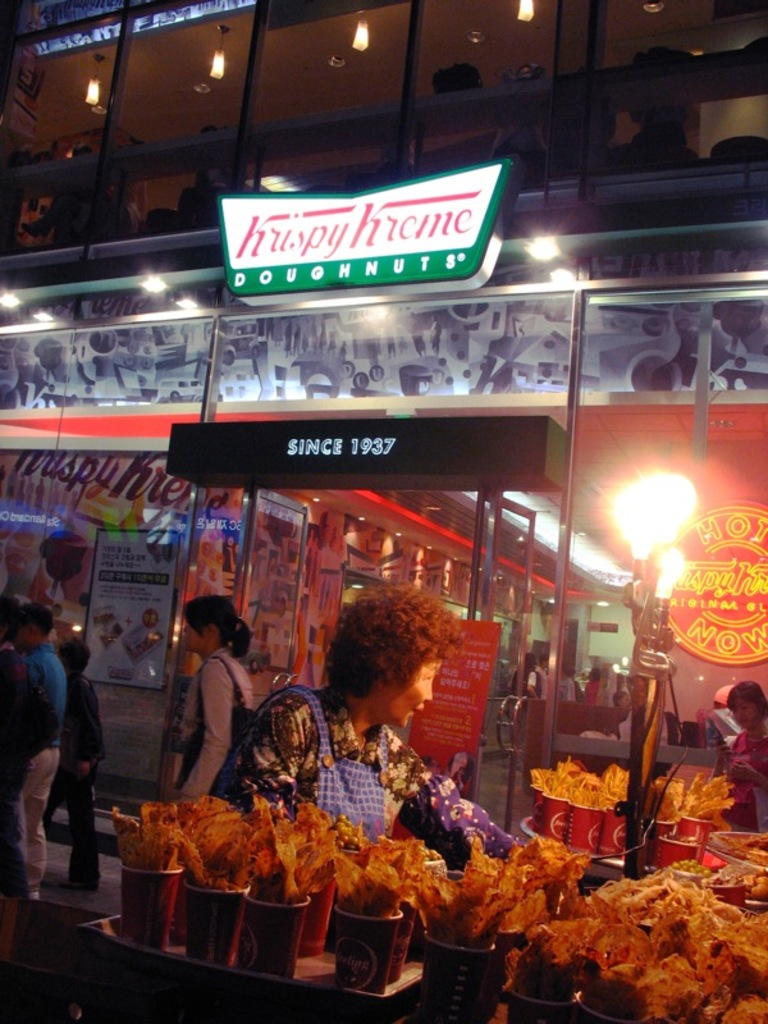Person: (0, 593, 768, 954), (179, 591, 252, 810)
